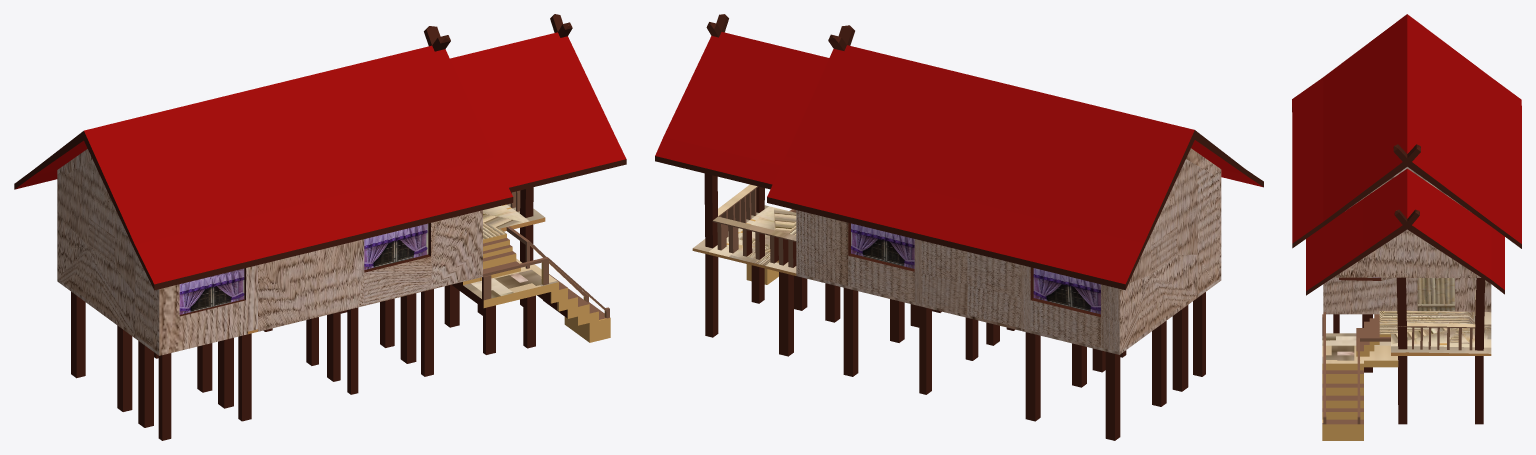
Rendered from rumahbajaupetani.glb.
3 renders of one model, left to right at view 1: azimuth 30°, elevation 25°; view 2: azimuth 150°, elevation 25°; view 3: azimuth 270°, elevation 25°, orthographic. The views are drawn at different scales.
Visible parts, largest first — view 1: Rumah; view 2: Rumah; view 3: Rumah.
Boxes of the visible parts, <box> form: Rumah: <box>14,14,626,440</box>; Rumah: <box>655,14,1263,440</box>; Rumah: <box>1292,14,1521,440</box>.
Size of the model in its own units: 1.3 by 0.7714 by 0.6525.
Materials: 8 (3 with a texture image).
